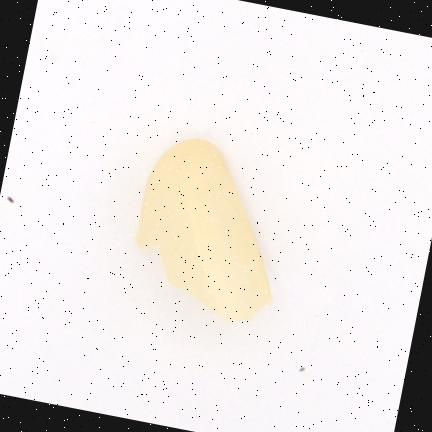parchment: (137, 139, 271, 321)
